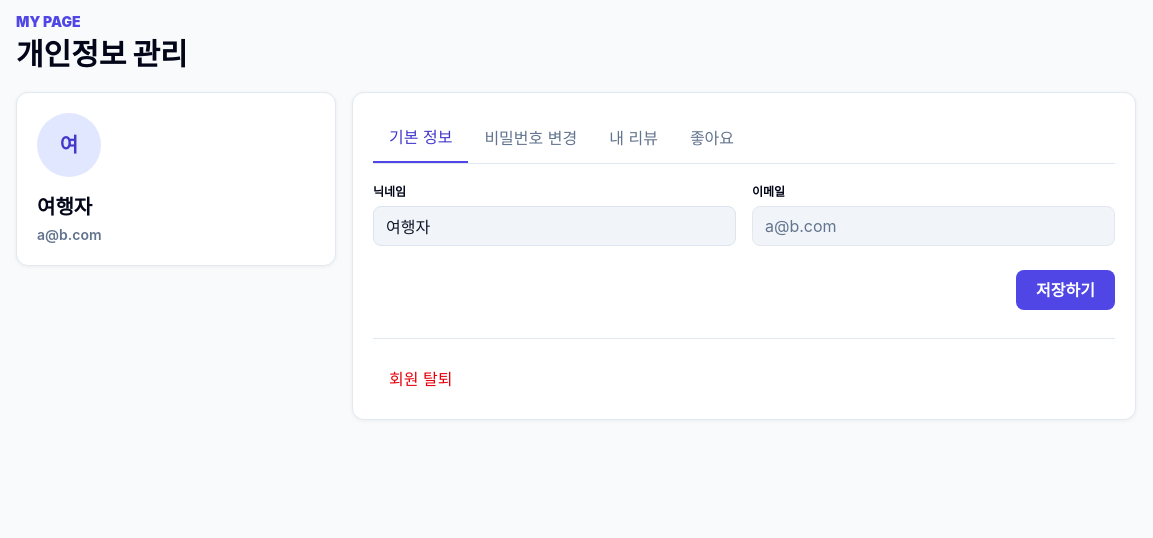
ProfilePage my reviews › loads liked places from the likes sub-tab
This screenshot has width=1153, height=538.
Click the button "좋아요" at (712, 138), box [674, 113, 750, 163]
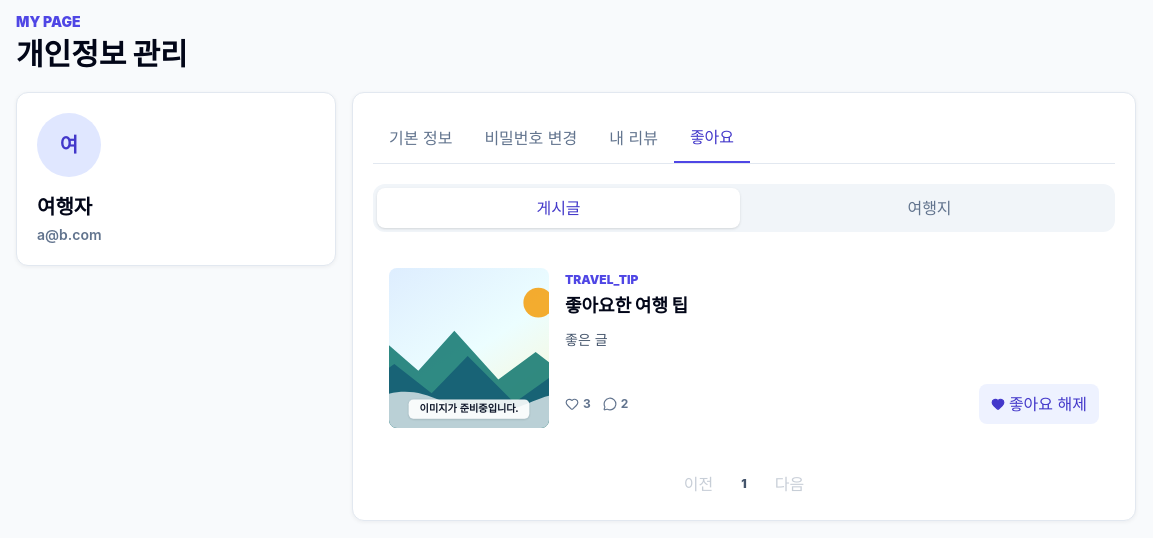
Click the button with test id "liked-places-tab" at (930, 208), box [748, 188, 1111, 228]
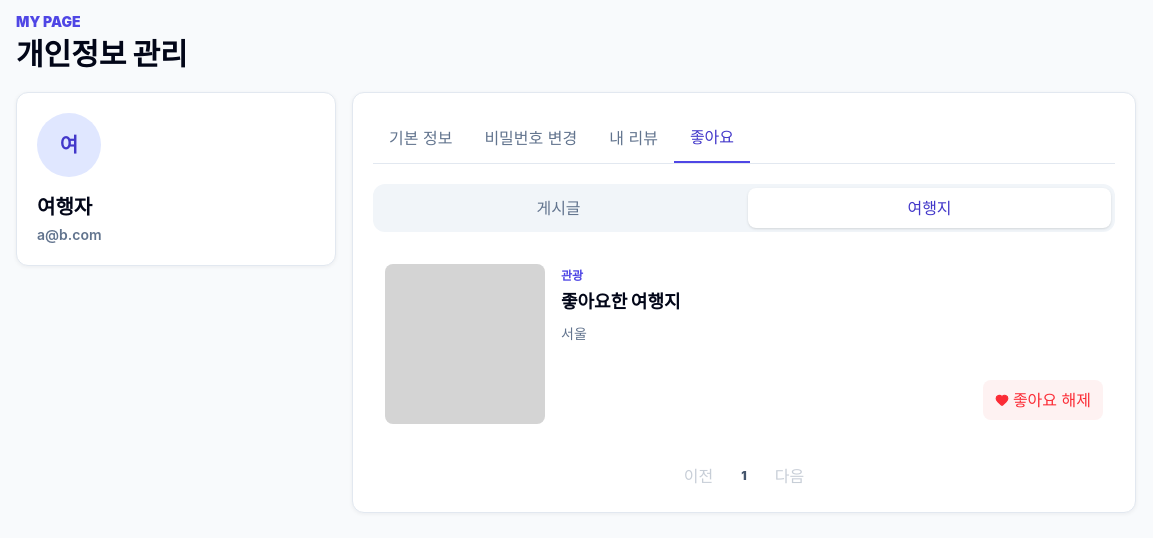
Now the text "좋아요한 여행지" is shown, box [561, 291, 680, 312]
